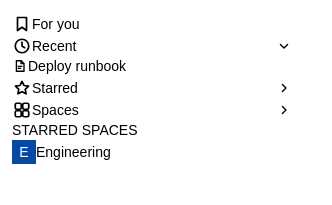
it: JL-152 sidebar › expands a section in place without navigating
Click the button "Spaces" at x=55, y=110, box [12,100,292,120]
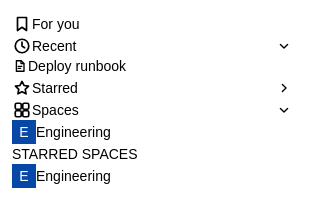
Now the button "Spaces" is expanded, box [12,100,292,120]
Now the text "Engineering" below "For you" is shown, box [36,124,111,140]
